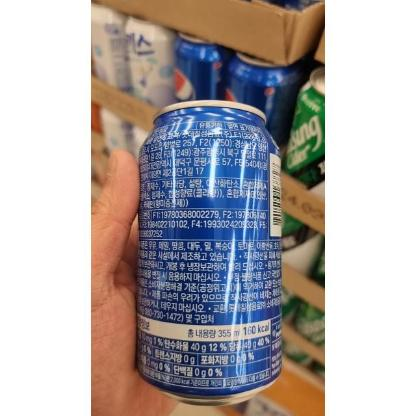Can: (126, 98, 290, 410)
